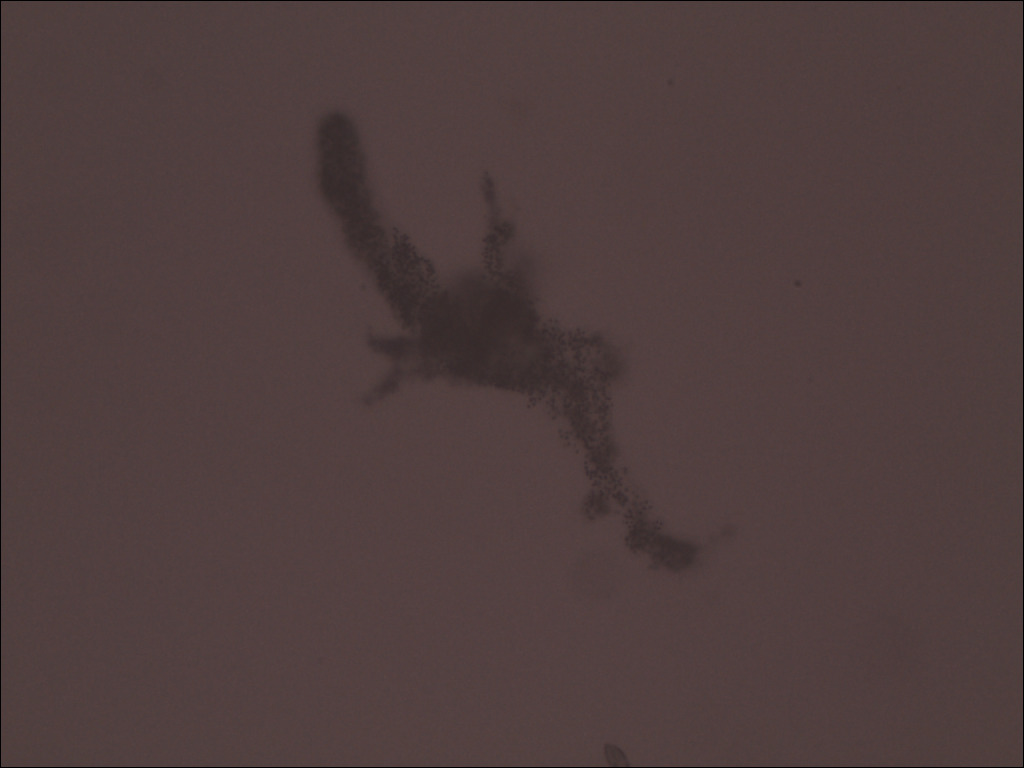amoeba: (304, 102, 748, 587)
